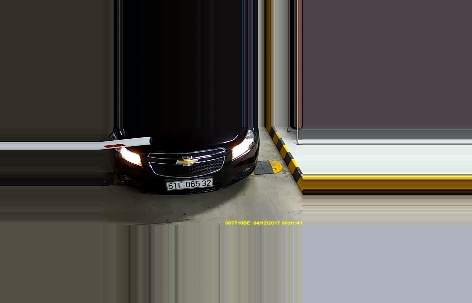plate: (167, 176, 211, 191)
